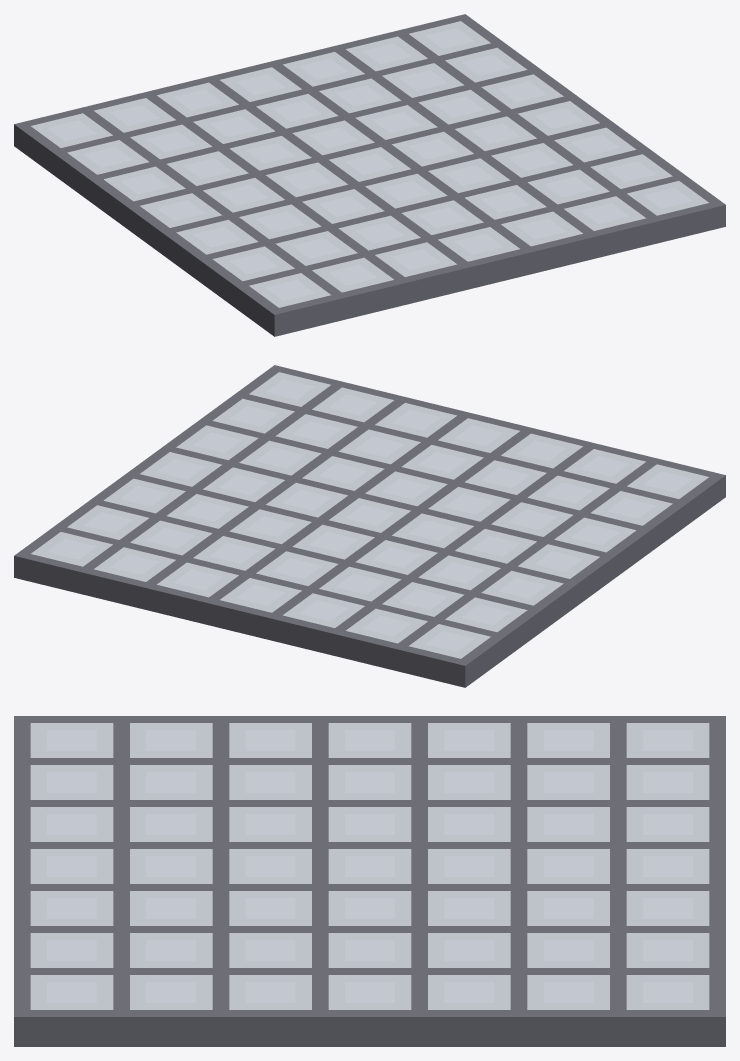
File: kitchen tile floor.obj
3 renders of one model, top to bottom at view 1: azimuth 30°, elevation 25°; view 2: azimuth 150°, elevation 25°; view 3: azimuth 270°, elevation 25°, orthographic. The views are drawn at different scales.
Size of the model in its own units: 4.3 by 0.2 by 4.3.
1 material, 1 textured.
